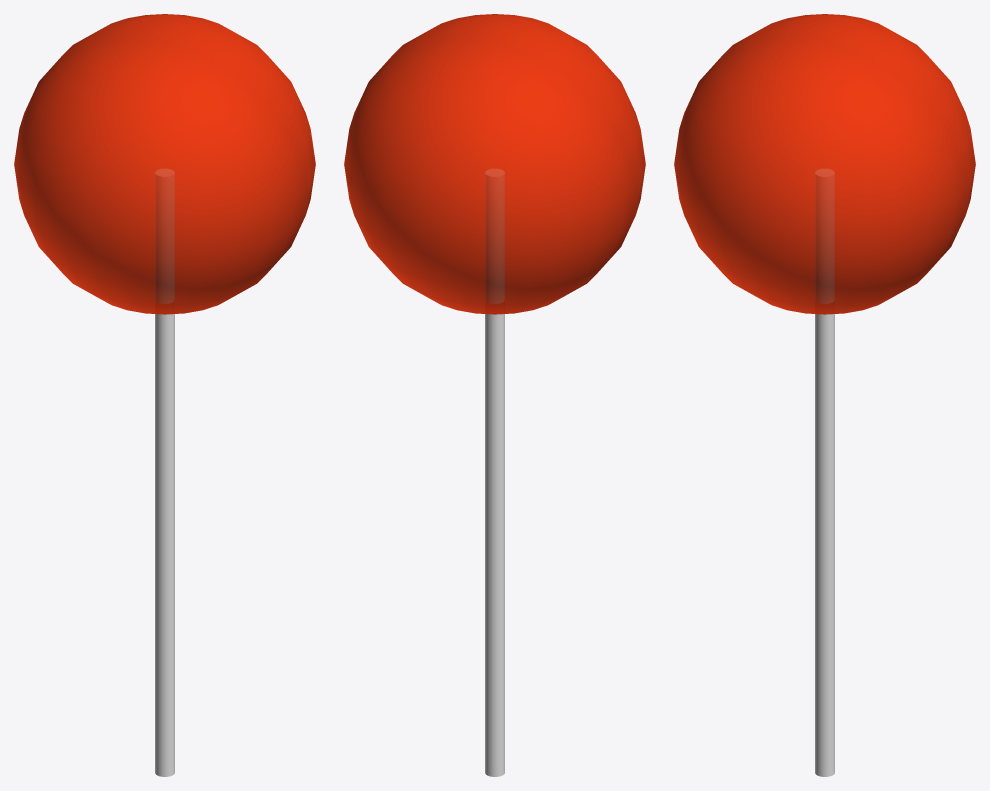
Rendered from Pirulito.fbx.
3 renders of one model, left to right at view 1: azimuth 30°, elevation 25°; view 2: azimuth 150°, elevation 25°; view 3: azimuth 270°, elevation 25°, orthographic.
Visible parts, largest first — view 1: Sphere, Cylinder; view 2: Sphere, Cylinder; view 3: Sphere, Cylinder.
Boxes of the visible parts, <box> form: Sphere: <box>14,14,315,314</box>; Cylinder: <box>155,169,174,776</box>; Sphere: <box>344,14,645,314</box>; Cylinder: <box>485,169,504,776</box>; Sphere: <box>674,14,975,314</box>; Cylinder: <box>815,169,834,776</box>.
Size of the model in its own units: 91.15 by 248 by 91.15.
